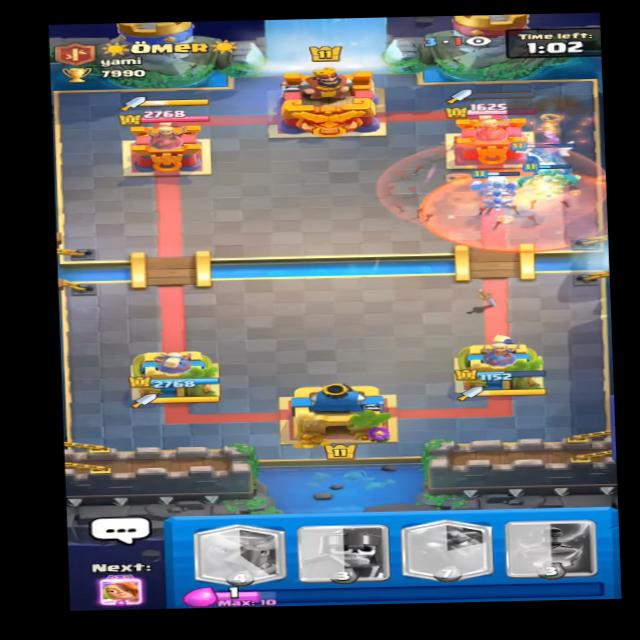poison: (418, 168, 617, 256)
